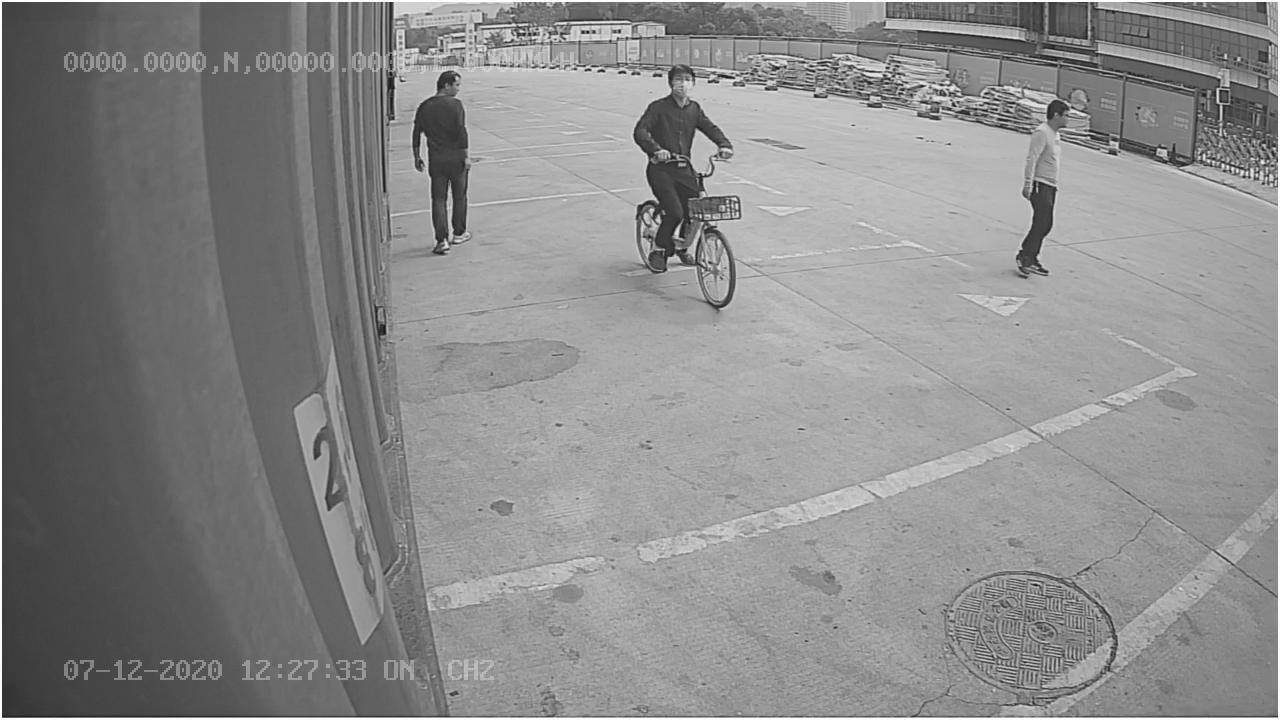person: (405, 65, 477, 258)
